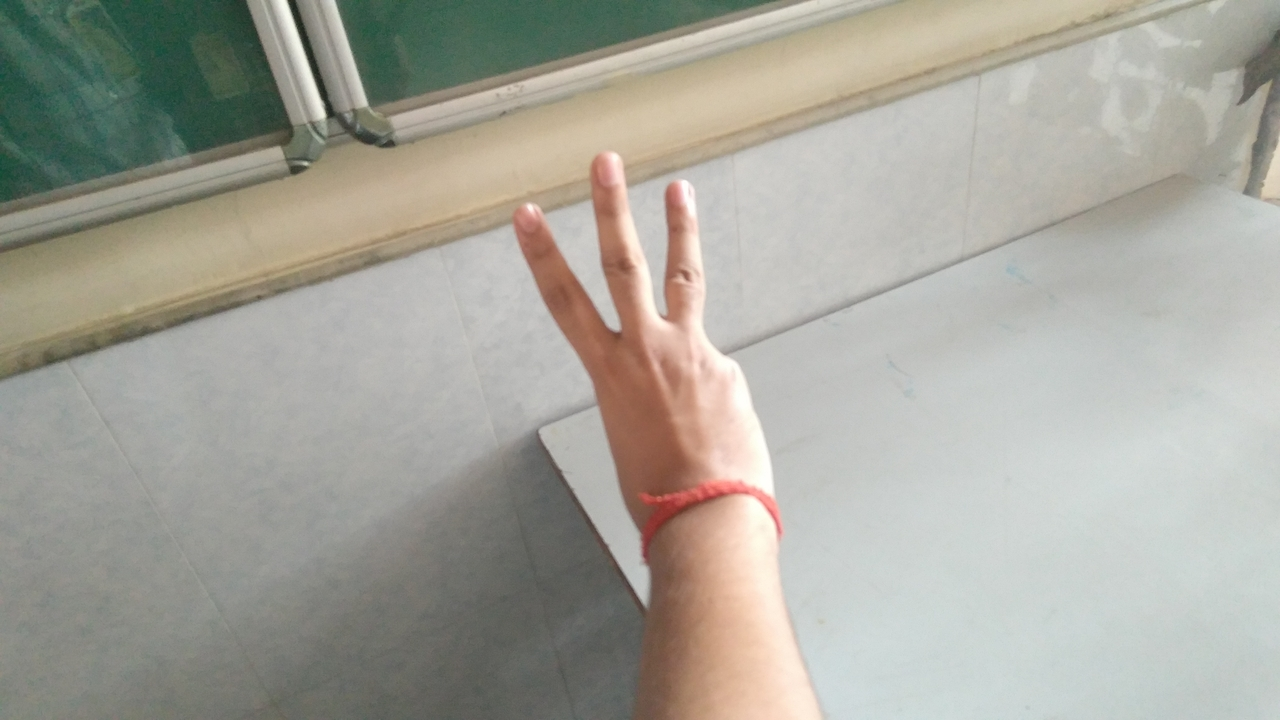fingertip: (498, 186, 556, 240), (582, 138, 634, 186), (654, 166, 708, 212)
